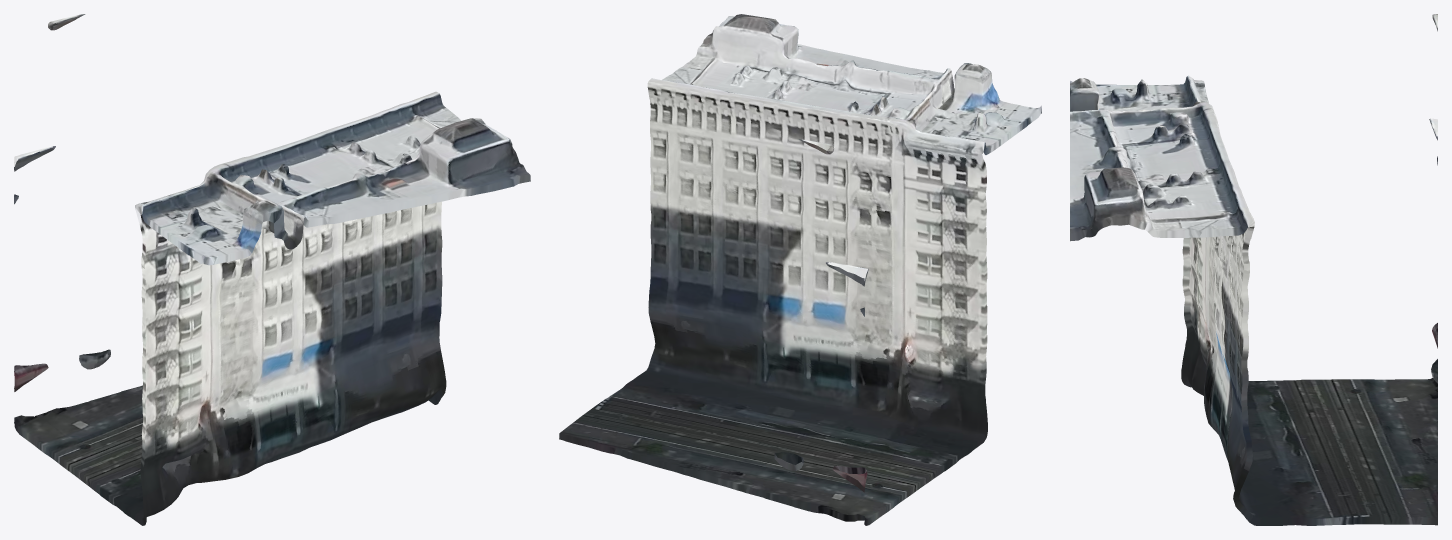
The model's file is z20-167748-405251-h0-yup-uvflip-v3-world.glb.
3 views of the same model, side by side, from view 1: azimuth 30°, elevation 25°; view 2: azimuth 150°, elevation 25°; view 3: azimuth 270°, elevation 25° (orthographic). The views are drawn at different scales.
Bounding box in the file's own units: 30.24 × 35.52 × 30.32.
1 material, 1 textured.
